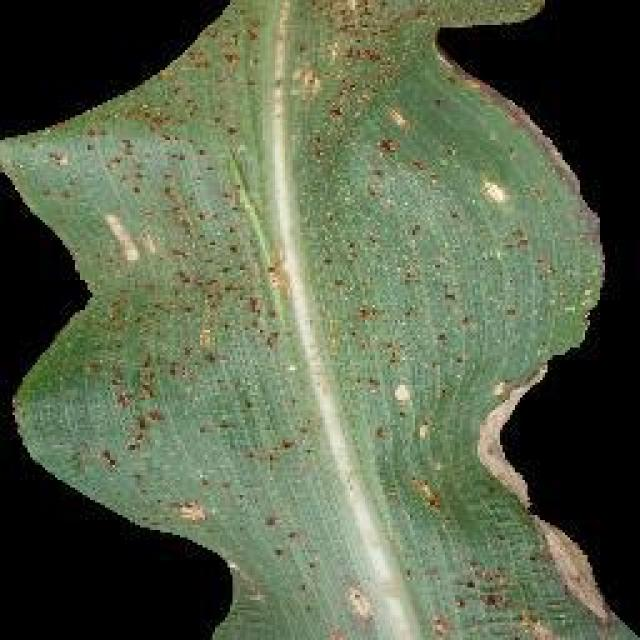Corn Common Rust: (130, 59, 518, 598)
